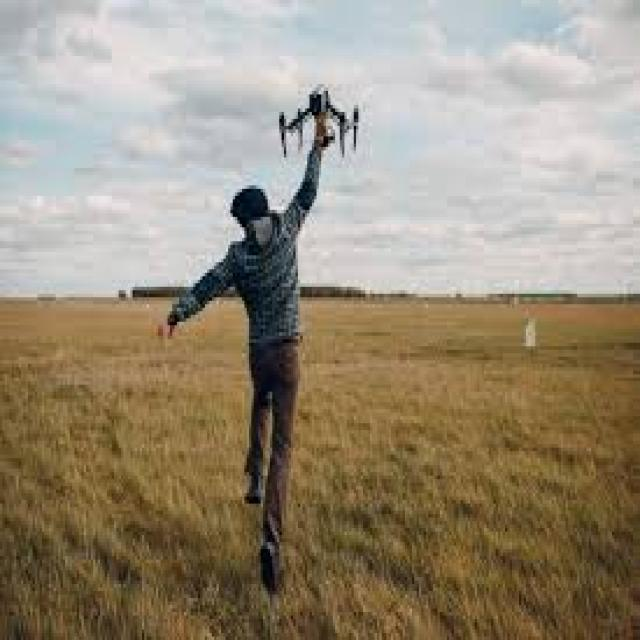drone: (260, 64, 374, 169)
